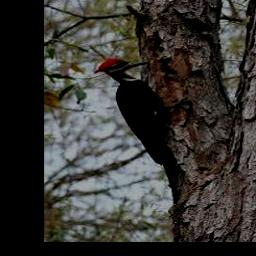Woodpecker: (94, 58, 192, 203)
